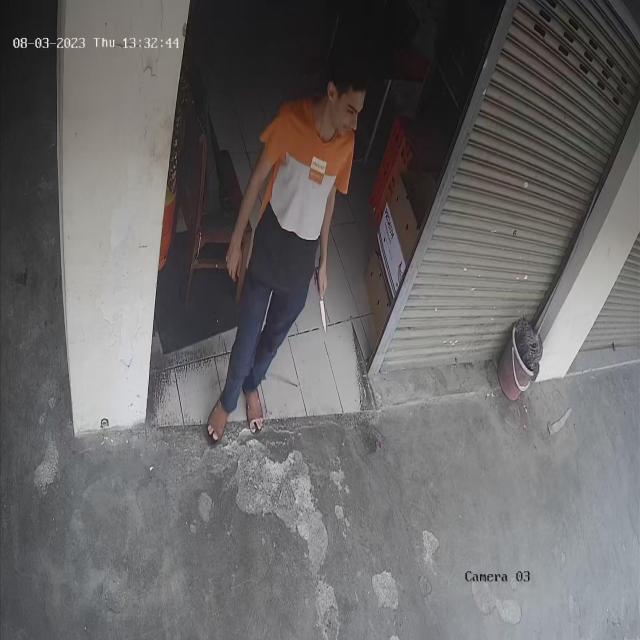Knife: (309, 271, 339, 340)
